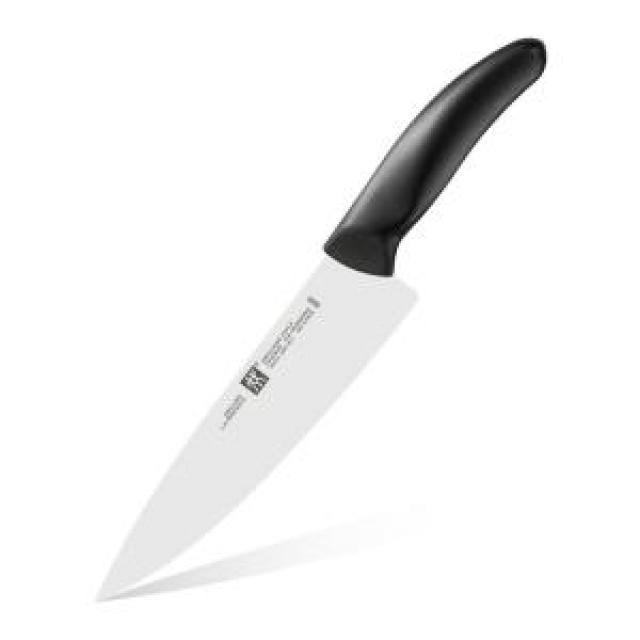knife: (92, 38, 552, 605)
